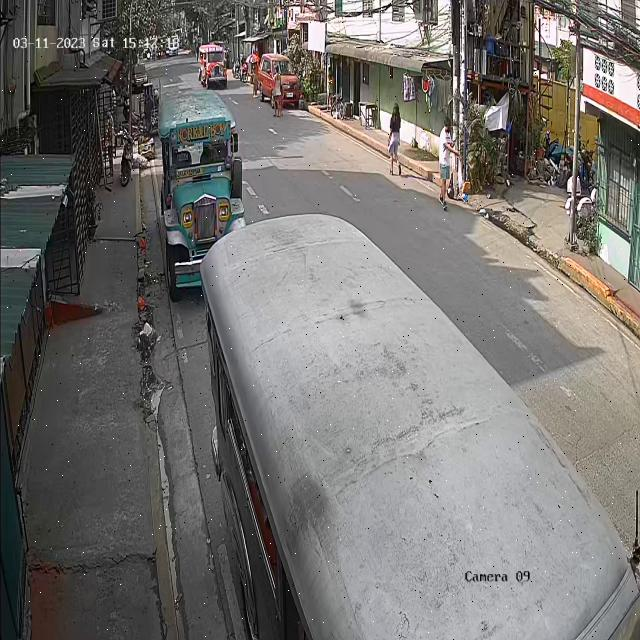human: (438, 118, 465, 210), (386, 96, 405, 176)
trash: (448, 167, 454, 201), (461, 192, 468, 203)
